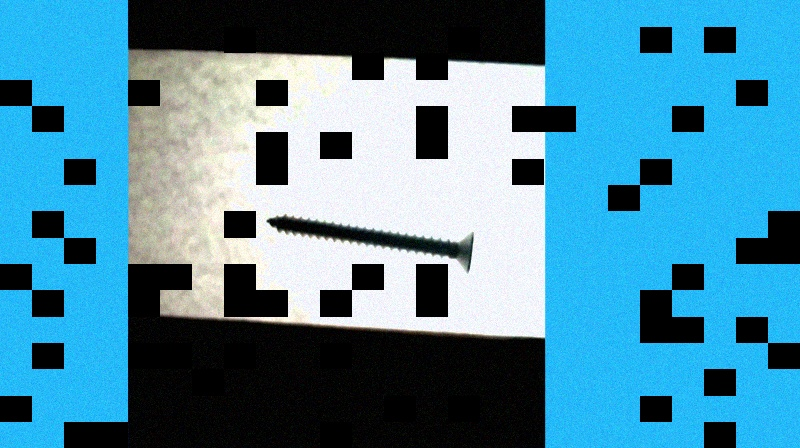S002: (262, 210, 477, 276)
